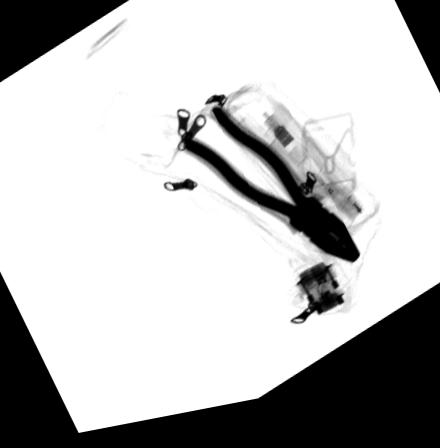Pliers: (183, 112, 361, 276)
